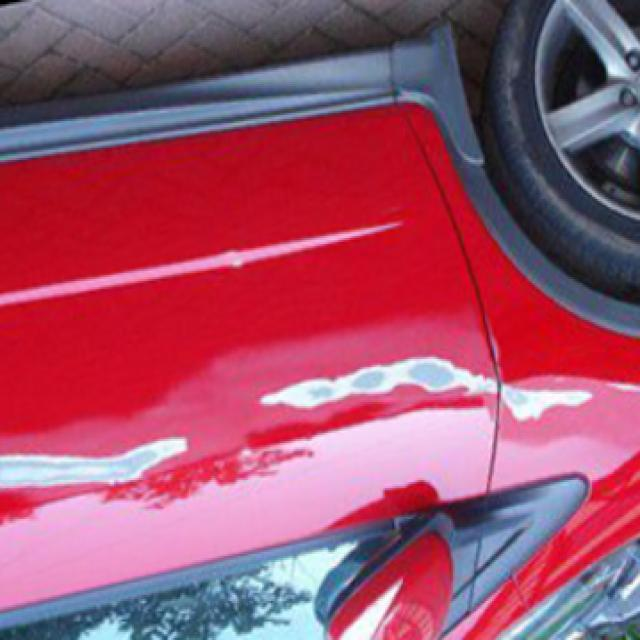scratch: (261, 356, 598, 426), (0, 435, 192, 487)
